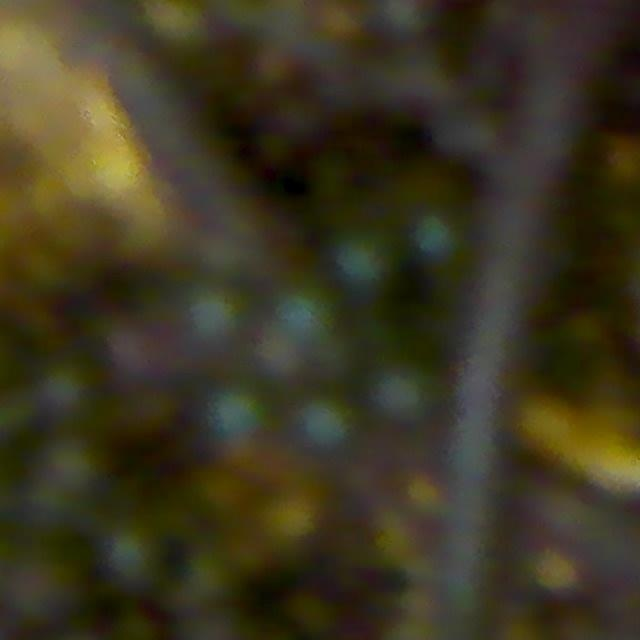SeaGrape: (31, 437, 103, 511), (266, 286, 336, 356), (332, 229, 395, 294), (367, 0, 447, 49), (184, 285, 244, 349), (33, 362, 94, 424), (103, 526, 160, 590), (370, 366, 430, 424), (206, 386, 268, 442), (296, 397, 352, 453), (410, 212, 460, 263)
